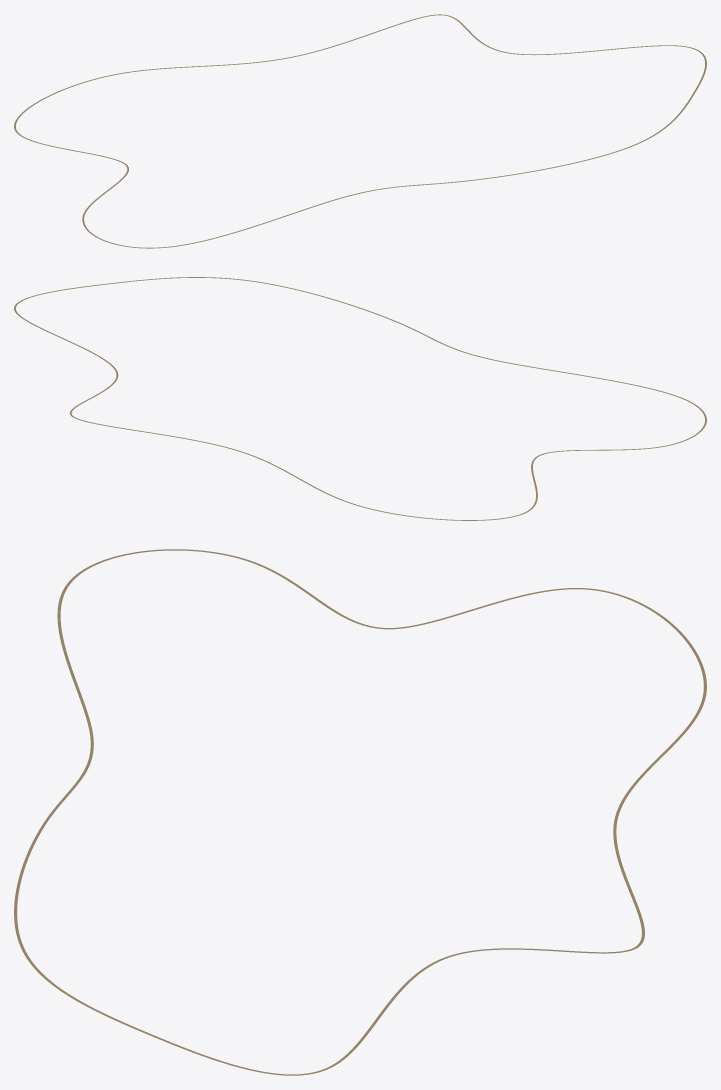
The model's file is Glass_Flats_Rally.glb.
3 renders of one model, top to bottom at view 1: azimuth 30°, elevation 25°; view 2: azimuth 150°, elevation 25°; view 3: azimuth 270°, elevation 25°, orthographic. The views are drawn at different scales.
Parts seen in each view (by area): view 1: road_surface; view 2: road_surface; view 3: road_surface.
Part boxes in pixels (x1=…): road_surface: x1=14, y1=14, x2=706, y2=248; road_surface: x1=14, y1=277, x2=706, y2=520; road_surface: x1=14, y1=549, x2=706, y2=1075.
Bounding box in the file's own units: 31515 × 6.12 × 17529.
